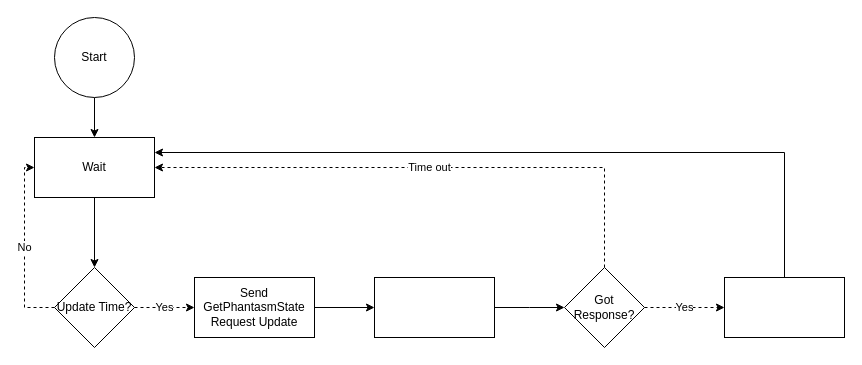
Some shapes in this 862 by 365 pixel diagram are drawn without their labels. The centre of each missing label's shape, as x and y in pixels:
"Update Phantasm Params" goes at (x=784, y=307).
"Wait for Response" goes at (x=434, y=307).
